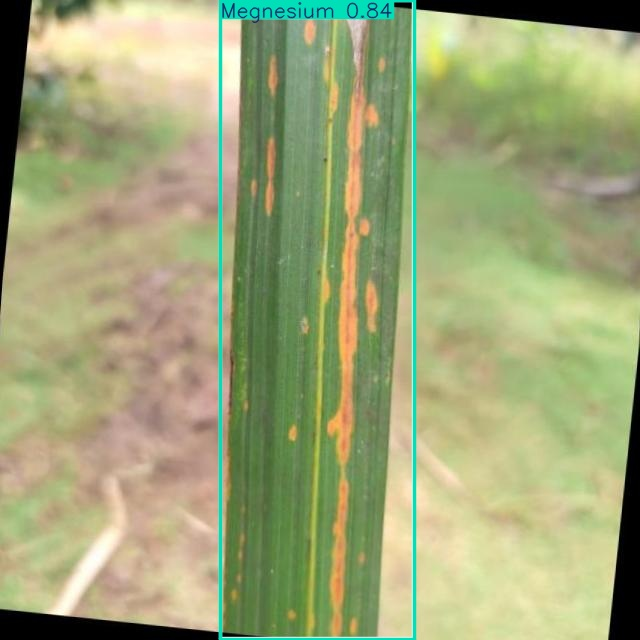Kalium: (220, 1, 414, 639)
Megnesium: (220, 0, 414, 640)
